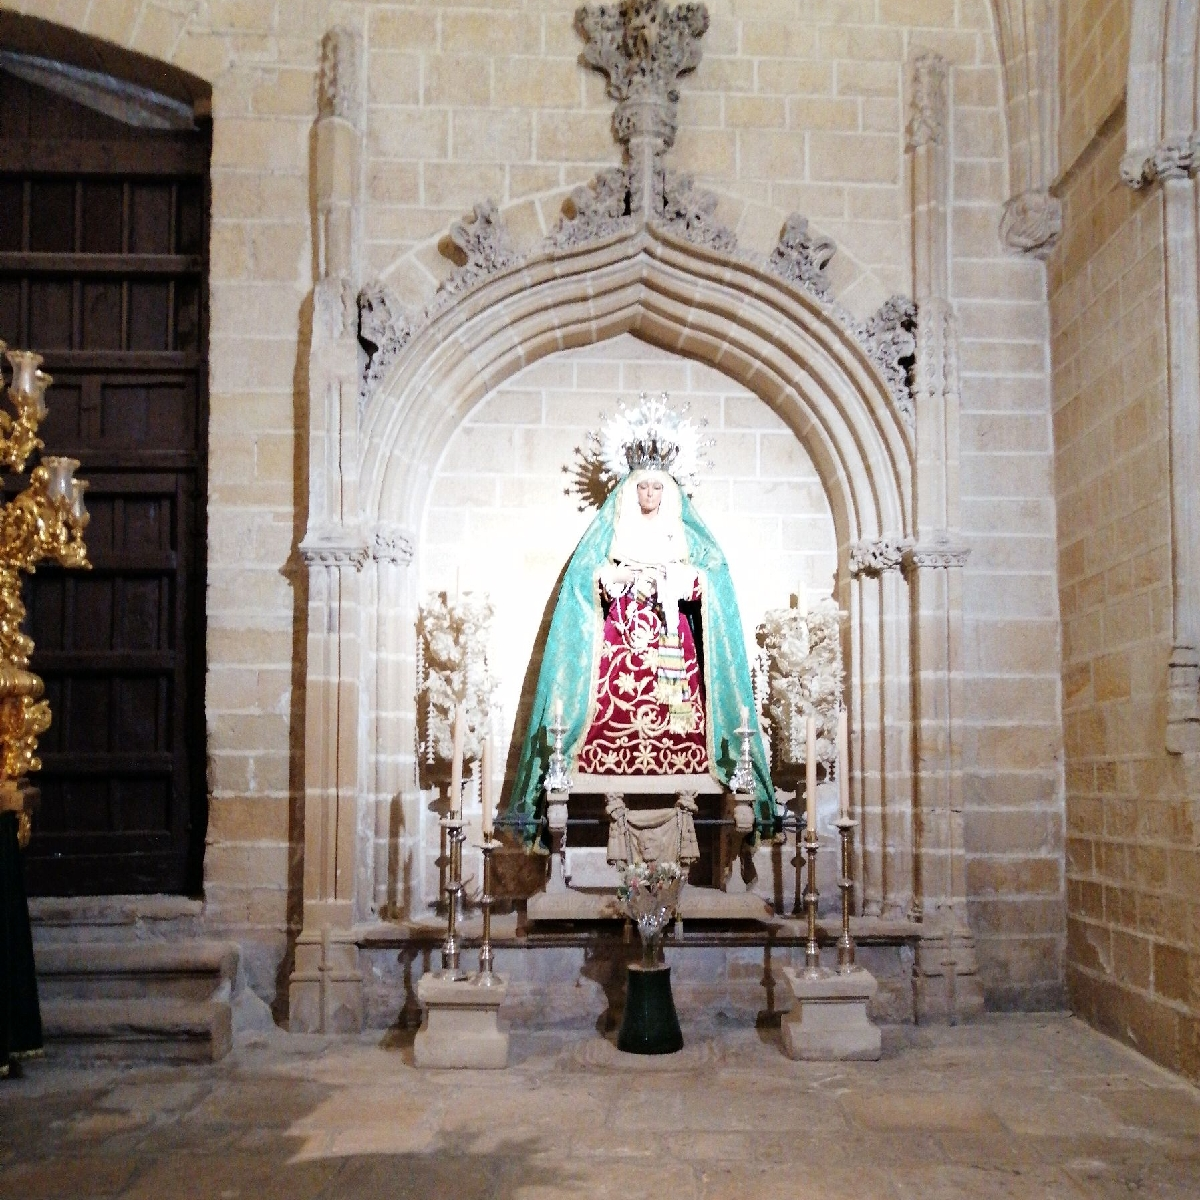arco-conopial: (438, 201, 825, 359)
